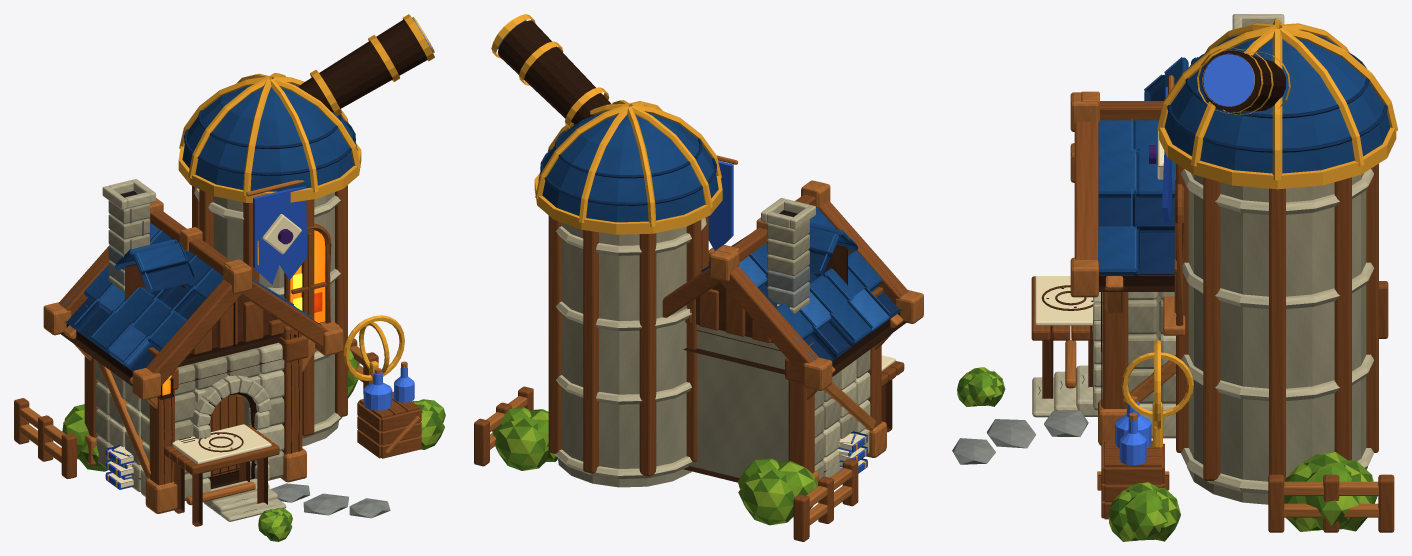
File: research_tower.glb
3 views of the same model, side by side, from view 1: azimuth 30°, elevation 25°; view 2: azimuth 150°, elevation 25°; view 3: azimuth 270°, elevation 25° (orthographic). The views are drawn at different scales.
Parts seen in each view (by area): view 1: Blue observatory dome, Telescope dark barrel, Observatory round limestone walls, Cloth heraldic banner, Carved roof verge, Round tower timber upright.007, Observatory parchment, Corner upright, Dome eave brass collar, Corner upright.002, Round tower timber upright.006, Carved roof verge.002 (+64 smaller); view 2: Observatory round limestone walls, Blue observatory dome, Cottage walls, Telescope dark barrel, Round tower timber upright.003, Round tower timber upright.002, Round tower timber upright.001, Carved roof verge.001, Dome eave brass collar, Round tower timber upright.004, Leaf cluster.007, Corner upright.001 (+46 smaller); view 3: Observatory round limestone walls, Blue observatory dome, Round tower timber upright.007, Round tower timber upright.001, Round tower timber upright, Dome eave brass collar, Carved roof verge.002, Round tower timber upright.002, Corner upright.002, Observatory parchment, Blue telescope lens, Round tower timber upright.006 (+59 smaller).
Boxes of the visible parts, bbox=[...] form: Blue observatory dome: bbox=[182, 83, 357, 191]; Telescope dark barrel: bbox=[299, 19, 427, 112]; Observatory round limestone walls: bbox=[213, 192, 338, 446]; Cloth heraldic banner: bbox=[253, 186, 307, 284]; Carved roof verge: bbox=[145, 279, 242, 385]; Round tower timber upright.007: bbox=[335, 185, 347, 416]; Observatory parchment: bbox=[172, 424, 271, 464]; Corner upright: bbox=[149, 354, 174, 485]; Dome eave brass collar: bbox=[178, 143, 361, 202]; Corner upright.002: bbox=[280, 326, 302, 454]; Round tower timber upright.006: bbox=[301, 199, 314, 436]; Carved roof verge.002: bbox=[241, 280, 328, 347]; Observatory round limestone walls: bbox=[557, 222, 691, 487]; Blue observatory dome: bbox=[538, 111, 718, 222]; Cottage walls: bbox=[689, 324, 788, 477]; Telescope dark barrel: bbox=[497, 20, 611, 124]; Round tower timber upright.003: bbox=[639, 233, 656, 476]; Round tower timber upright.002: bbox=[583, 230, 598, 473]; Round tower timber upright.001: bbox=[548, 215, 561, 453]; Carved roof verge.001: bbox=[719, 266, 818, 375]; Dome eave brass collar: bbox=[534, 173, 722, 234]; Round tower timber upright.004: bbox=[686, 220, 701, 461]; Leaf cluster.007: bbox=[738, 469, 794, 525]; Corner upright.001: bbox=[788, 342, 814, 473]; Observatory round limestone walls: bbox=[1187, 173, 1367, 504]; Blue observatory dome: bbox=[1164, 34, 1390, 173]; Round tower timber upright.007: bbox=[1203, 177, 1220, 480]; Round tower timber upright.001: bbox=[1334, 177, 1351, 460]; Round tower timber upright: bbox=[1269, 188, 1285, 481]; Dome eave brass collar: bbox=[1159, 127, 1396, 189]; Carved roof verge.002: bbox=[1074, 121, 1098, 260]; Round tower timber upright.002: bbox=[1366, 164, 1378, 452]; Corner upright.002: bbox=[1102, 292, 1128, 408]; Observatory parchment: bbox=[1035, 276, 1093, 325]; Blue telescope lens: bbox=[1203, 54, 1254, 106]; Round tower timber upright.006: bbox=[1176, 163, 1188, 452].
Size of the model in its own units: 4.34 by 4.64 by 3.64.
36 materials, 23 textured.
